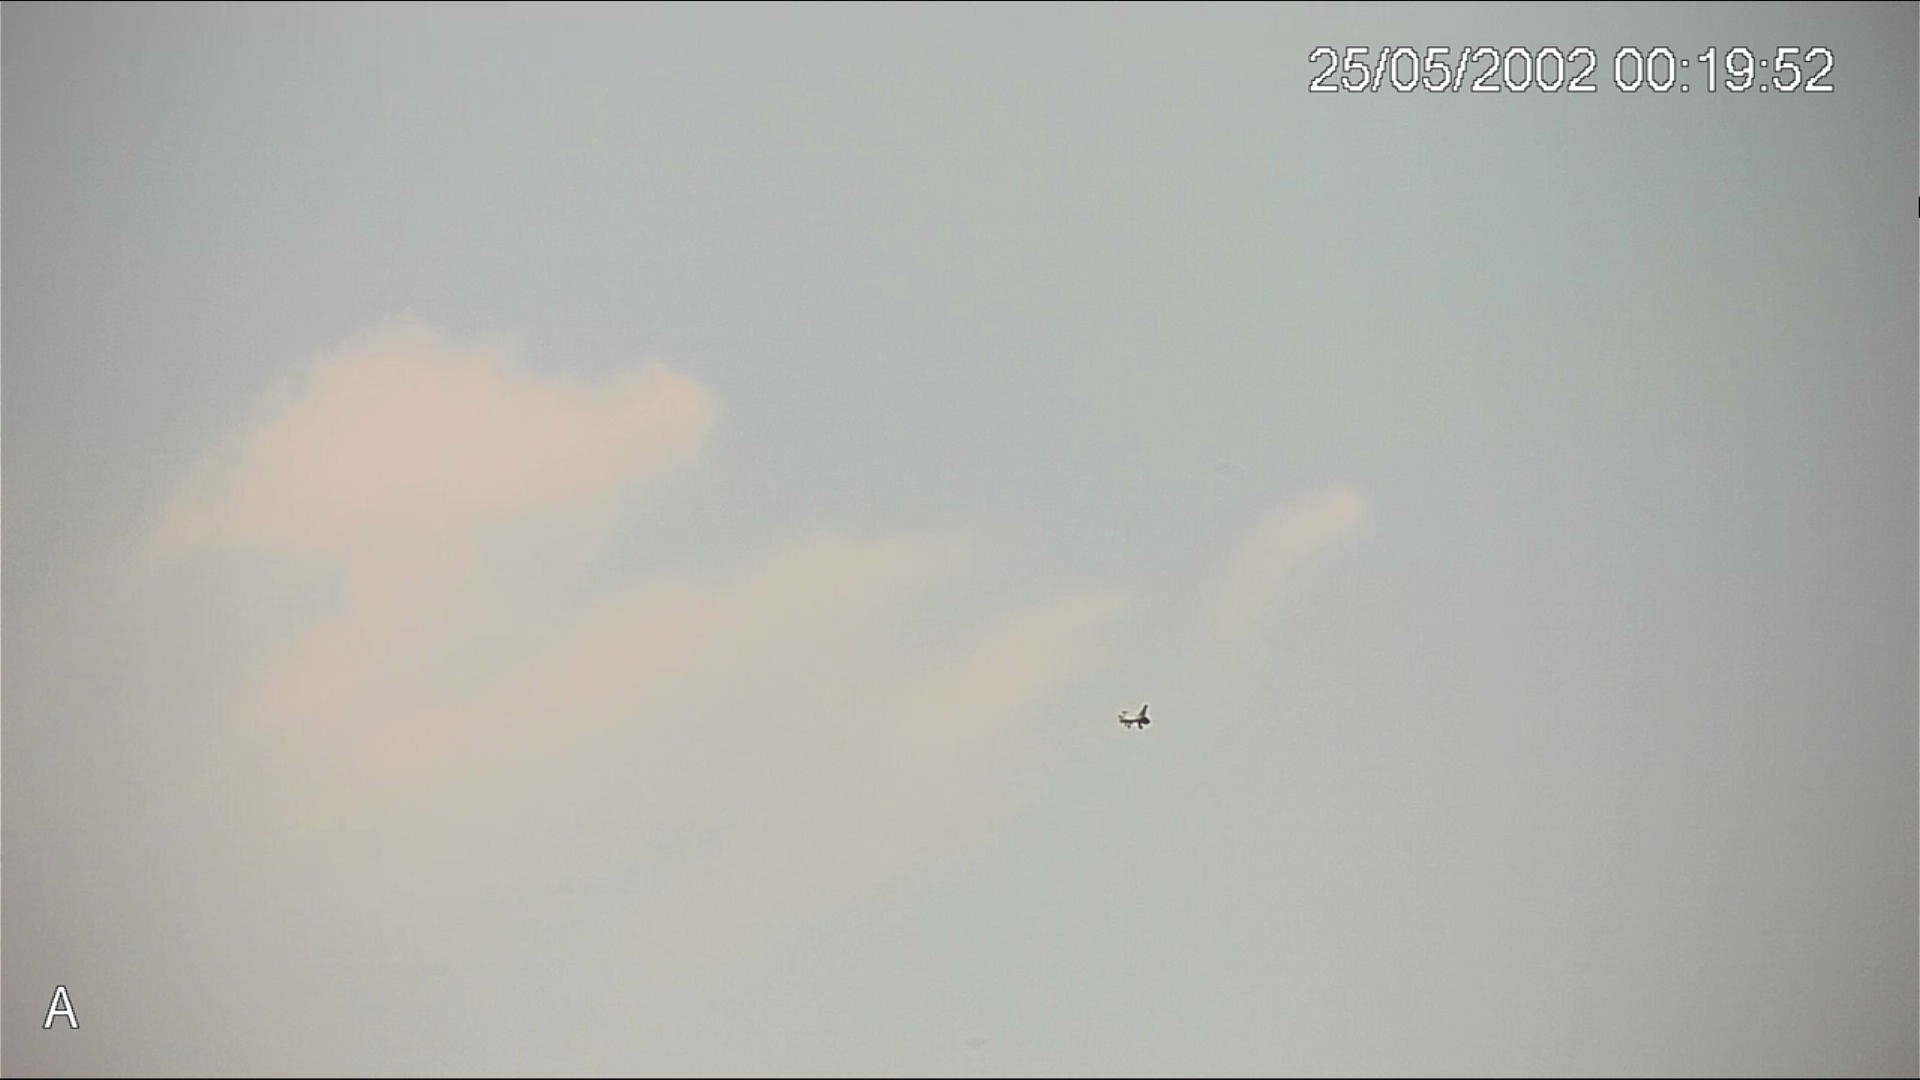SU_30: (1113, 700, 1154, 733)
